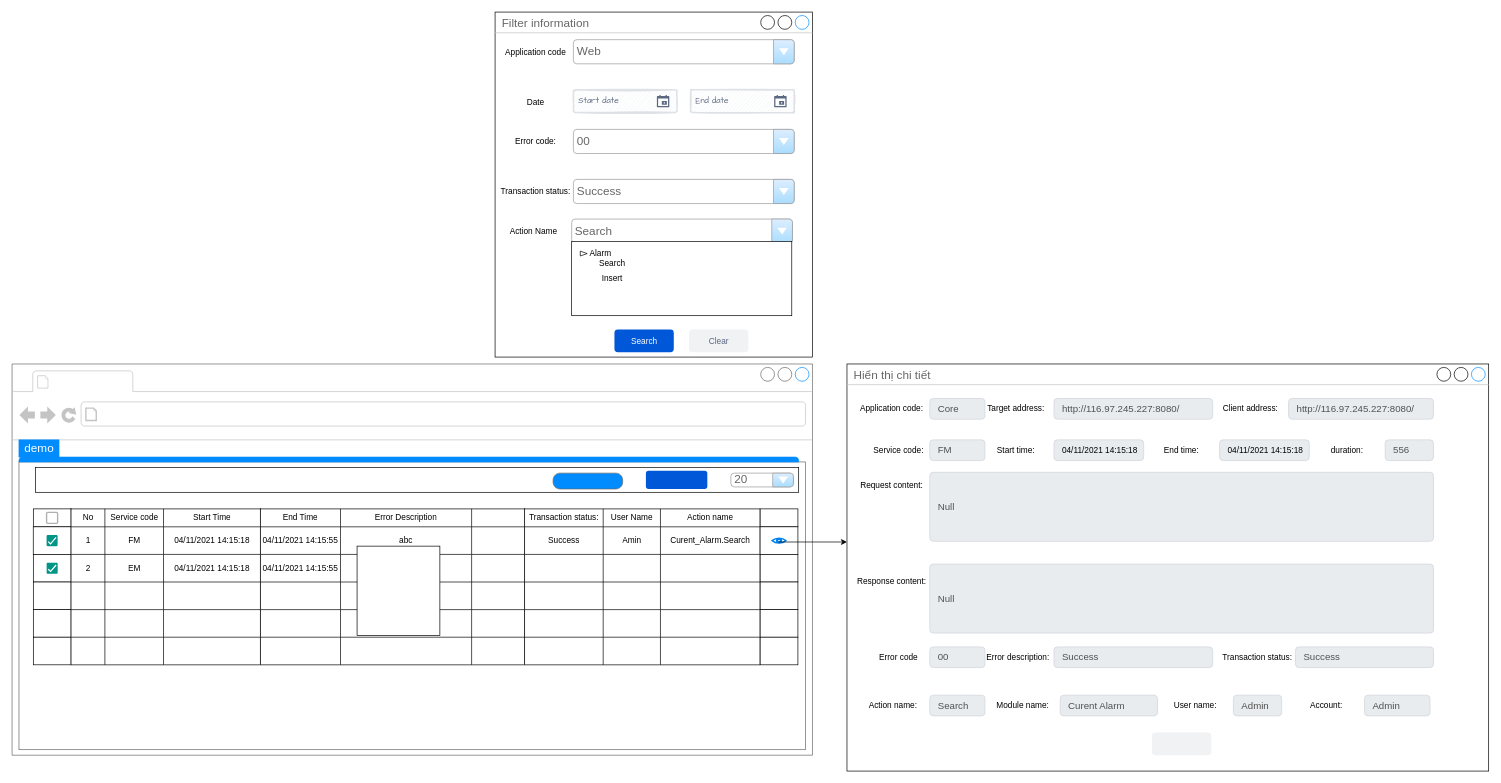
Some shapes in this 1501 by 783 pixel diagram are drawn without their labels. The centre of each missing label's shape, as x and y in pixels:
Acction: [778,517]
Close: [1181,743]
Filter: [676,479]
https://www.demo.io: [187,414]
Link to Inventory Mgmt: [398,590]
Page 1: [91,381]
Refresh: [587,480]
